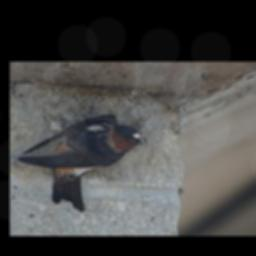Swallow: (16, 112, 145, 210)
